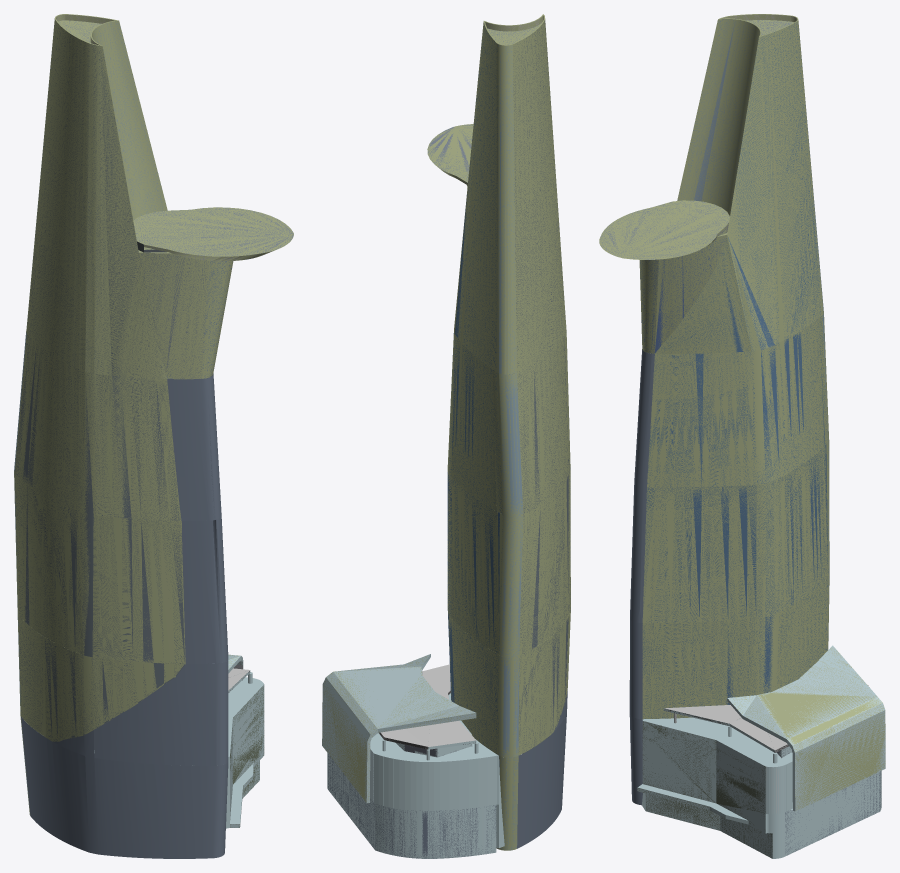
File: bitexco.fbx
The picture shows the model from 3 angles, left to right: view 1: azimuth 30°, elevation 25°; view 2: azimuth 150°, elevation 25°; view 3: azimuth 270°, elevation 25°; orthographic projection. The views are drawn at different scales.
Parts seen in each view (by area): view 1: G_7_3_1, G_8_2_1, G_3_1_1, G_4_1_1, G_2_1, Bitexco_Financial_Tower1, G_10_2_1; view 2: G_7_3_1, G_2_1, G_10_2_1, G_9_2_1, G_6_1_1, G_1_1_1, G_8_2_1, G_3_1_1, Bitexco_Financial_Tower1; view 3: G_9_2_1, G_2_1, G_6_1_1, G_1_1_1, G_3_1_1, G_4_1_1, G_8_2_1, G_10_2_1, Bitexco_Financial_Tower1.
Boxes of the visible parts, bbox=[...] form: G_7_3_1: bbox=[14, 19, 185, 741]; G_8_2_1: bbox=[21, 373, 228, 858]; G_3_1_1: bbox=[133, 207, 293, 379]; G_4_1_1: bbox=[92, 20, 167, 219]; G_2_1: bbox=[94, 654, 264, 828]; Bitexco_Financial_Tower1: bbox=[55, 14, 118, 45]; G_10_2_1: bbox=[14, 18, 54, 815]; G_7_3_1: bbox=[513, 20, 570, 755]; G_2_1: bbox=[322, 654, 504, 858]; G_10_2_1: bbox=[496, 44, 523, 850]; G_9_2_1: bbox=[447, 471, 503, 754]; G_6_1_1: bbox=[454, 21, 498, 371]; G_1_1_1: bbox=[447, 331, 503, 514]; G_8_2_1: bbox=[509, 374, 567, 848]; G_3_1_1: bbox=[427, 124, 473, 187]; Bitexco_Financial_Tower1: bbox=[484, 14, 545, 45]; G_9_2_1: bbox=[642, 442, 828, 719]; G_2_1: bbox=[637, 645, 885, 858]; G_6_1_1: bbox=[655, 21, 822, 353]; G_1_1_1: bbox=[647, 315, 827, 486]; G_3_1_1: bbox=[599, 200, 729, 353]; G_4_1_1: bbox=[677, 19, 760, 215]; G_8_2_1: bbox=[629, 349, 654, 805]; G_10_2_1: bbox=[792, 20, 829, 650]; Bitexco_Financial_Tower1: bbox=[718, 14, 798, 36].
Size of what is drawn, in the model's own units: 80.95 by 276 by 95.06.
